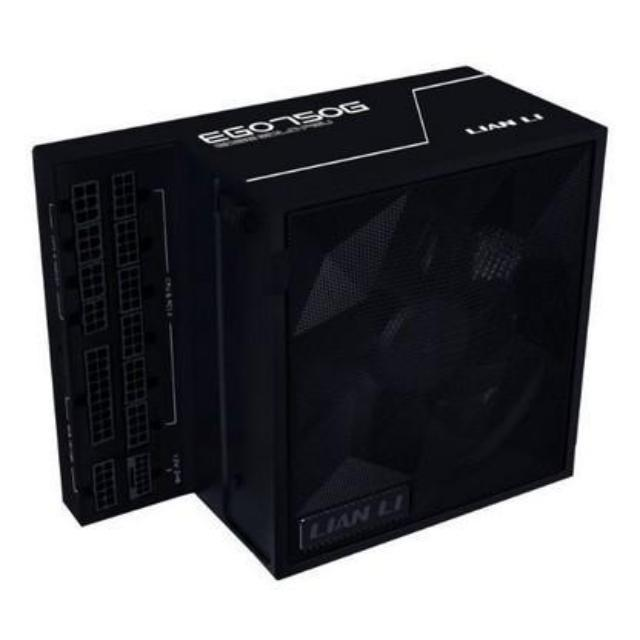PSU: (20, 42, 609, 594)
